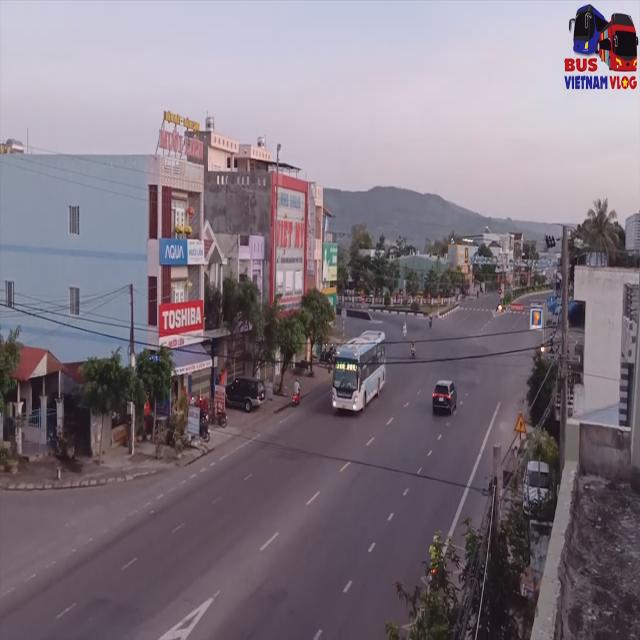car: (432, 376, 459, 417)
motorbike: (290, 379, 301, 409)
truck: (331, 333, 387, 420)
